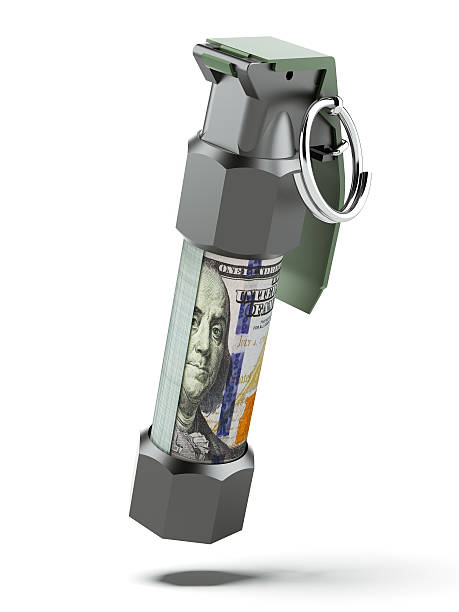e1: (131, 39, 367, 541)
